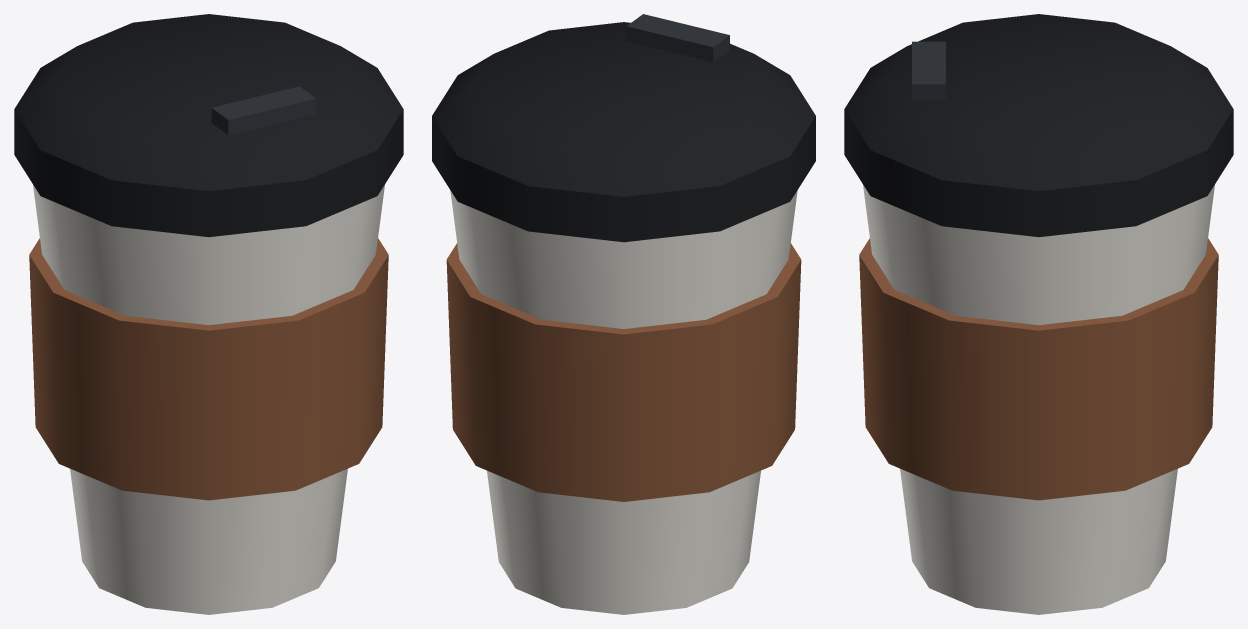
Rendered from coffee_cup.glb.
3 views of the same model, side by side, from view 1: azimuth 30°, elevation 25°; view 2: azimuth 150°, elevation 25°; view 3: azimuth 270°, elevation 25° (orthographic).
Visible parts, largest first — view 1: coffee_cup; view 2: coffee_cup; view 3: coffee_cup.
Boxes of the visible parts, bbox=[...] form: coffee_cup: bbox=[14, 14, 403, 614]; coffee_cup: bbox=[432, 14, 815, 614]; coffee_cup: bbox=[844, 14, 1233, 614].
Size of the model in its own units: 0.092 by 0.13 by 0.092.
